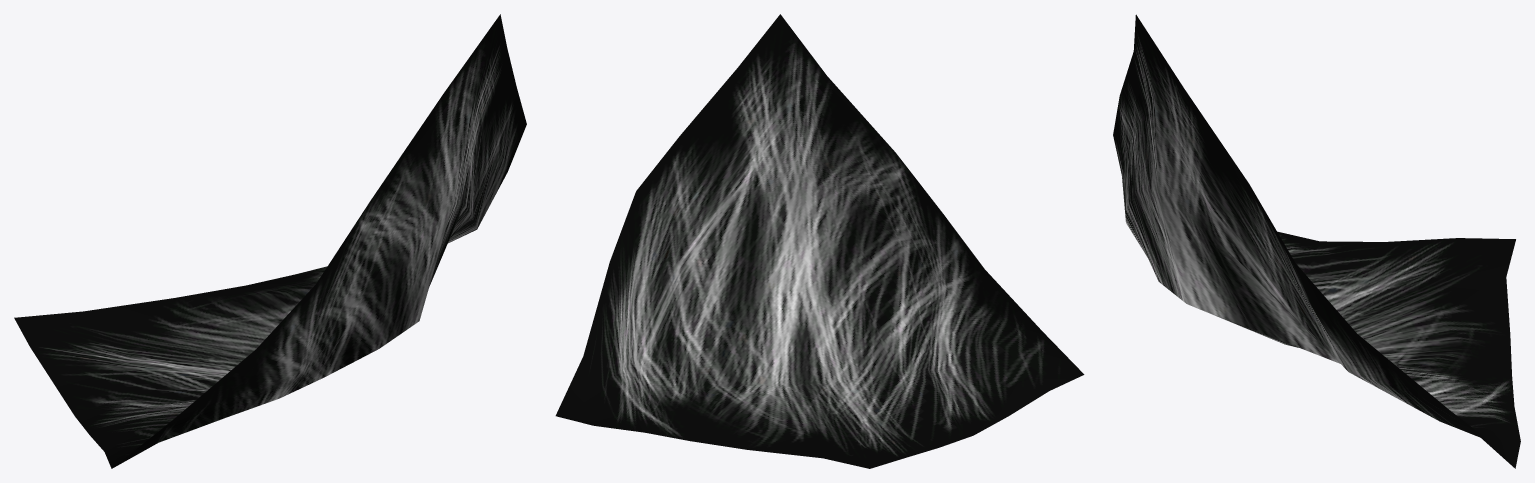
The model's file is SWORDLIGHT20_PS-AREA01_CORNERWEB09.fbx.
3 views of the same model, side by side, from view 1: azimuth 30°, elevation 25°; view 2: azimuth 150°, elevation 25°; view 3: azimuth 270°, elevation 25° (orthographic). The views are drawn at different scales.
Parts seen in each view (by area): view 1: SWORDLIGHT20_PS-AREA01_CORNERWEB09; view 2: SWORDLIGHT20_PS-AREA01_CORNERWEB09; view 3: SWORDLIGHT20_PS-AREA01_CORNERWEB09.
Boxes of the visible parts, x1,y1,x2,y2 form: SWORDLIGHT20_PS-AREA01_CORNERWEB09: (14, 14, 526, 468); SWORDLIGHT20_PS-AREA01_CORNERWEB09: (555, 14, 1084, 468); SWORDLIGHT20_PS-AREA01_CORNERWEB09: (1113, 14, 1520, 468).
Bounding box in the file's own units: 64896 × 49844 × 45418.
1 material, 1 textured.
